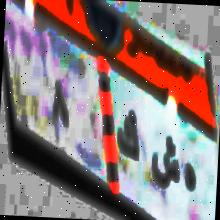8: (47, 74, 71, 142)
haa: (180, 148, 198, 208)
kaaf: (112, 96, 142, 177)
sheen: (148, 126, 182, 214)
